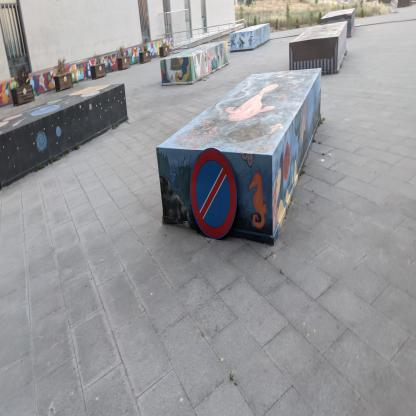No Waiting: (192, 149, 238, 240)
